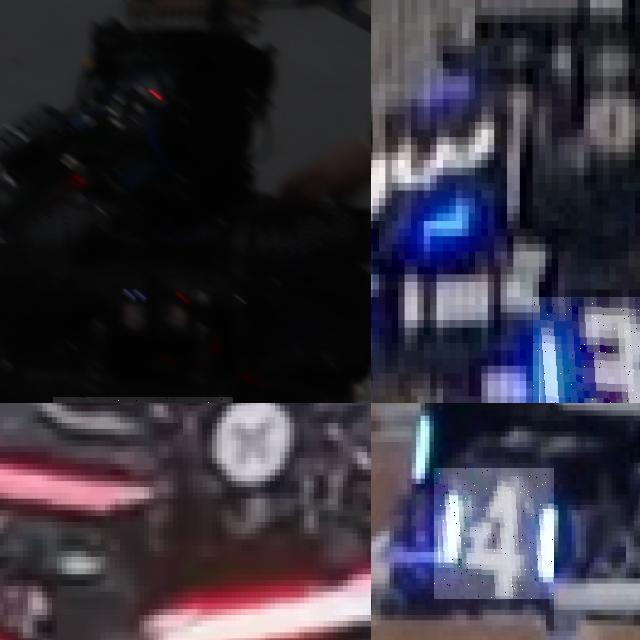B3: (392, 68, 507, 244), (532, 297, 640, 403)
B4: (434, 468, 554, 599)
